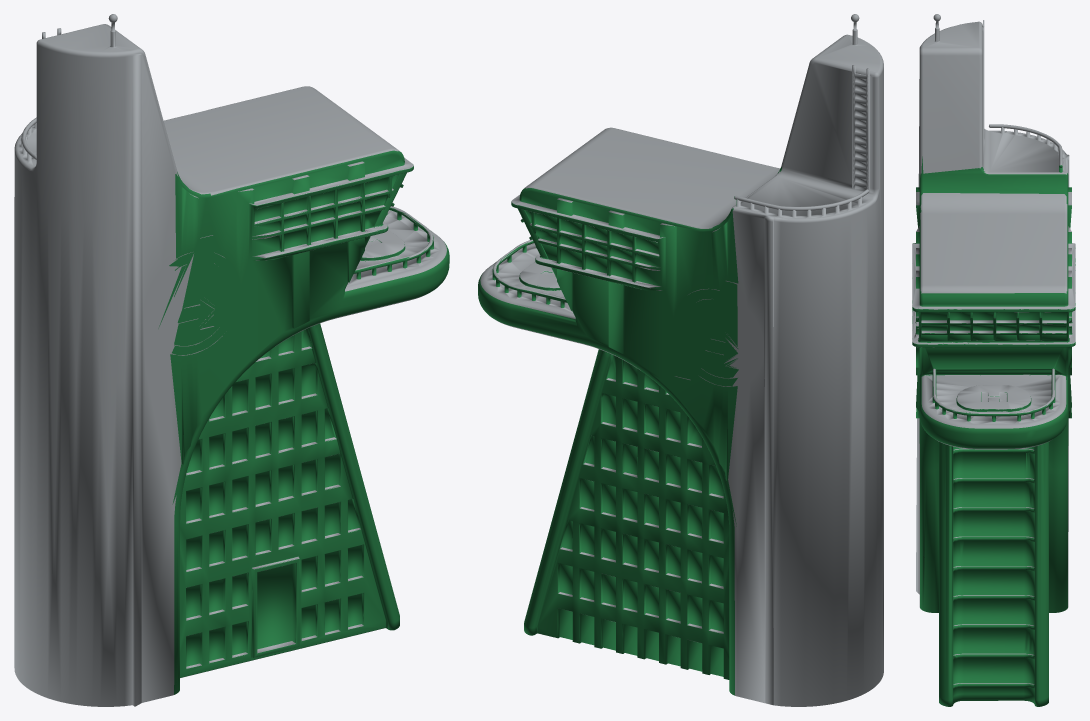
The model's file is doom-tower.glb.
The picture shows the model from 3 angles, left to right: view 1: azimuth 30°, elevation 25°; view 2: azimuth 150°, elevation 25°; view 3: azimuth 270°, elevation 25°; orthographic projection. The views are drawn at different scales.
Visible parts, largest first — view 1: doom-tower; view 2: doom-tower; view 3: doom-tower.
Part boxes in pixels (x1,y1,x2,y2): doom-tower: (14,14,449,706); doom-tower: (478,14,883,706); doom-tower: (912,14,1075,706).
Size of the model in its own units: 63 by 102 by 26.4.
